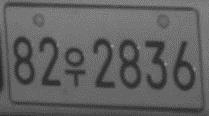2: (91, 37, 116, 89), (37, 35, 62, 86)
3: (143, 39, 167, 89)
6: (172, 39, 195, 91)
8: (12, 35, 35, 85), (118, 39, 141, 89)
우: (63, 47, 86, 87)
